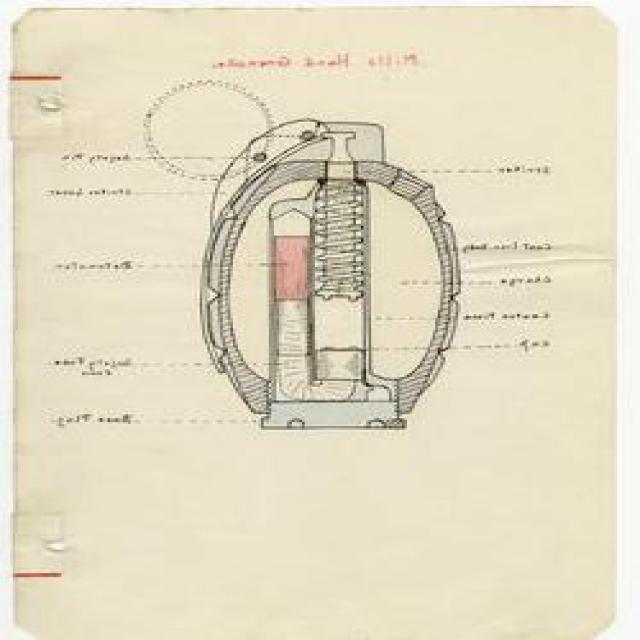grenade: (197, 118, 461, 438)
